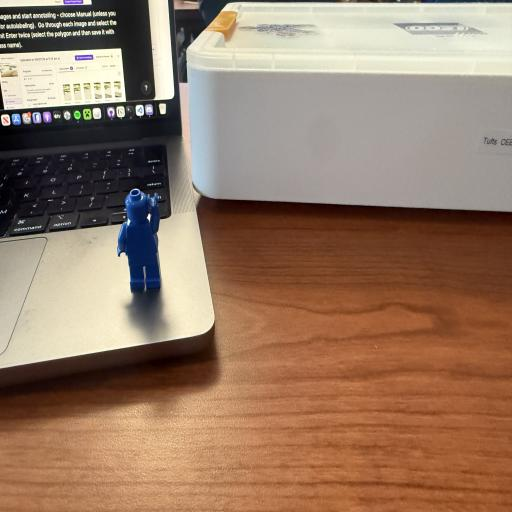Minifig: (118, 189, 160, 289)
